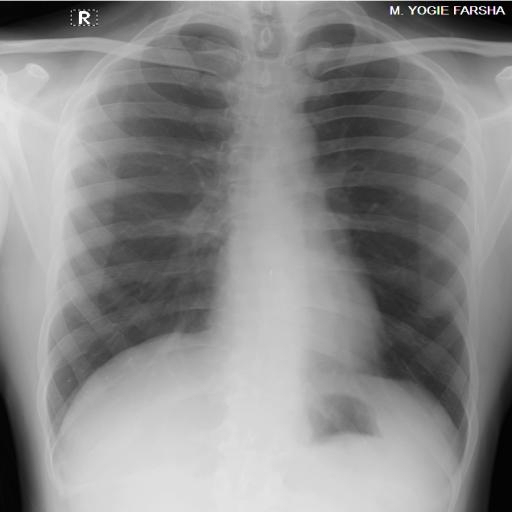normal: (24, 14, 479, 466)
